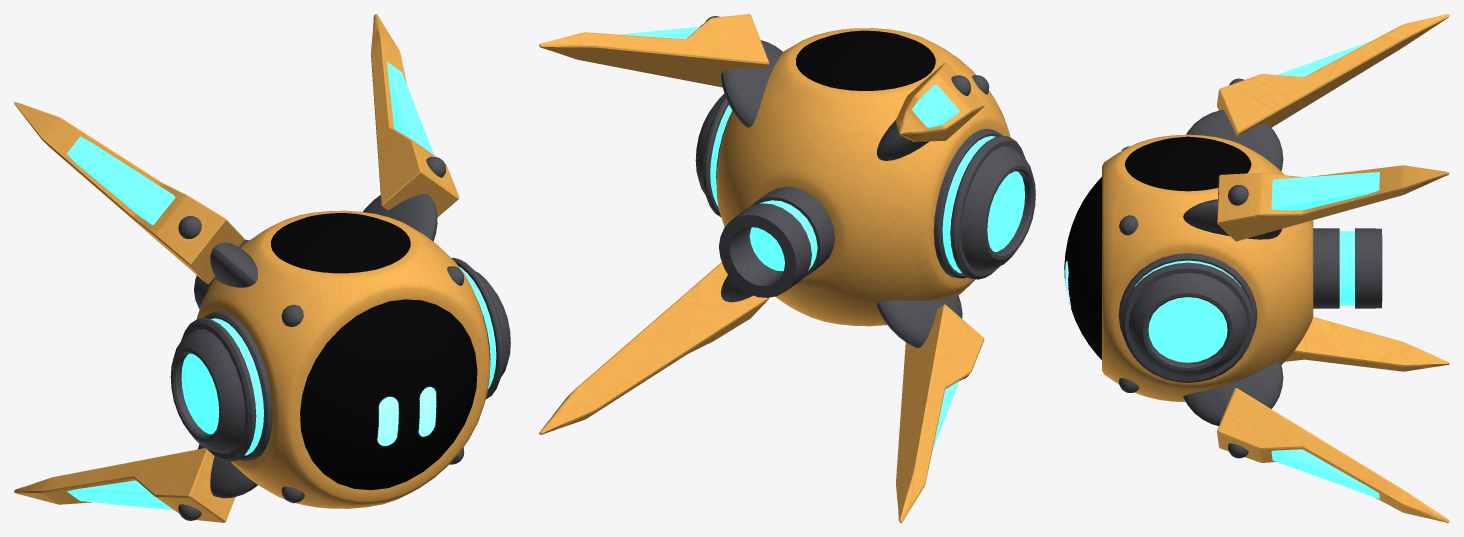
The model's file is madre_etherean_empire_drone.glb.
3 views of the same model, side by side, from view 1: azimuth 30°, elevation 25°; view 2: azimuth 150°, elevation 25°; view 3: azimuth 270°, elevation 25° (orthographic). The views are drawn at different scales.
Visible parts, largest first — view 1: Drone; view 2: Drone; view 3: Drone.
Part boxes in pixels (bbox=[...]): Drone: bbox=[14, 14, 510, 522]; Drone: bbox=[539, 14, 1035, 522]; Drone: bbox=[1064, 14, 1449, 522].
Bounding box in the file's own units: 2.78 × 2.86 × 2.84.
4 materials, 4 textured.
